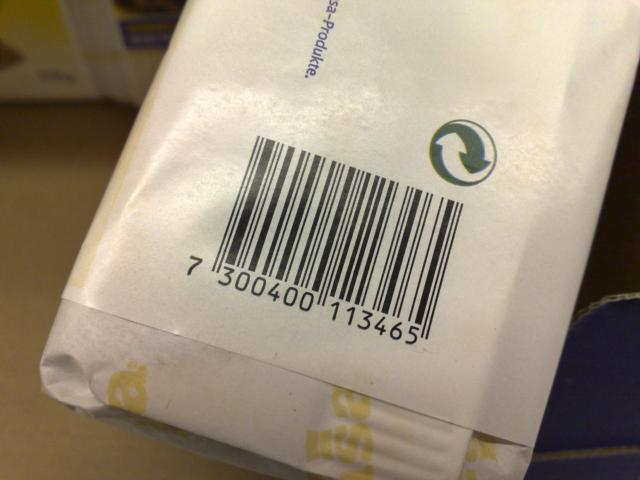Barcode: (171, 117, 491, 361)
